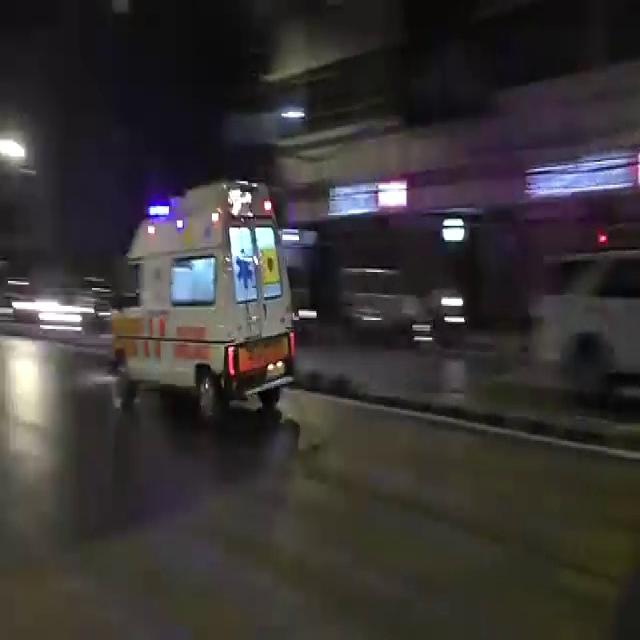ambulance: (115, 180, 296, 396)
